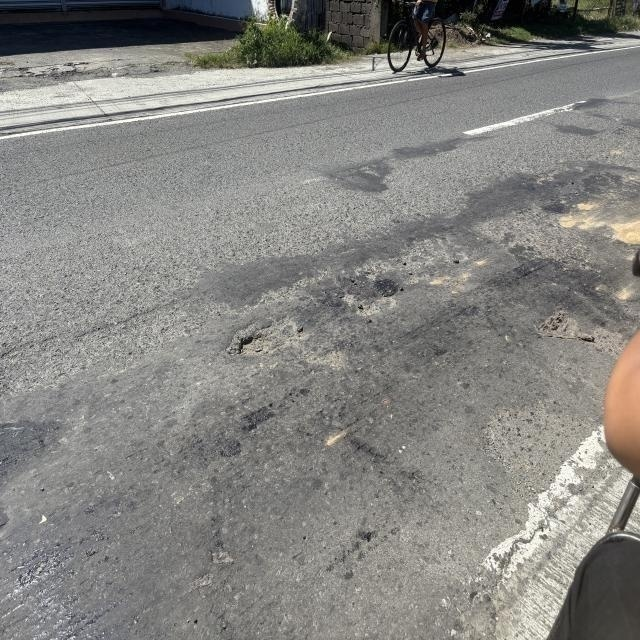pothole: (223, 302, 300, 373)
